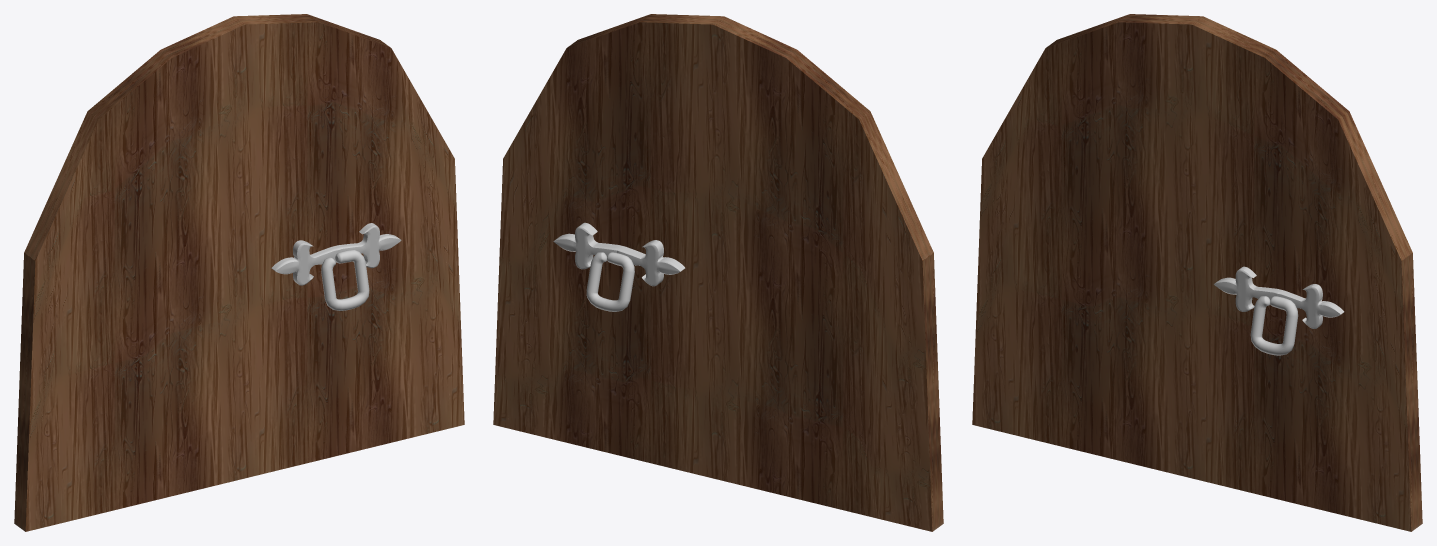
The model's file is door4unity.fbx.
3 views of the same model, side by side, from view 1: azimuth 30°, elevation 25°; view 2: azimuth 150°, elevation 25°; view 3: azimuth 330°, elevation 25° (orthographic).
Visible parts, largest first — view 1: door1, ringDeco_base16, chain_piece5; view 2: door1, ringDeco_base18, chain_piece6; view 3: door1, ringDeco_base16, chain_piece5.
Part boxes in pixels (x1,y1,x2,y2): door1: (14, 14, 464, 531); ringDeco_base16: (271, 223, 401, 285); chain_piece5: (321, 250, 369, 310); door1: (493, 14, 943, 531); ringDeco_base18: (553, 222, 685, 286); chain_piece6: (586, 252, 634, 311); door1: (972, 14, 1422, 531); ringDeco_base16: (1214, 266, 1344, 328); chain_piece5: (1250, 296, 1298, 355).
Size of the model in its own units: 5.88 by 5.81 by 1.01.
